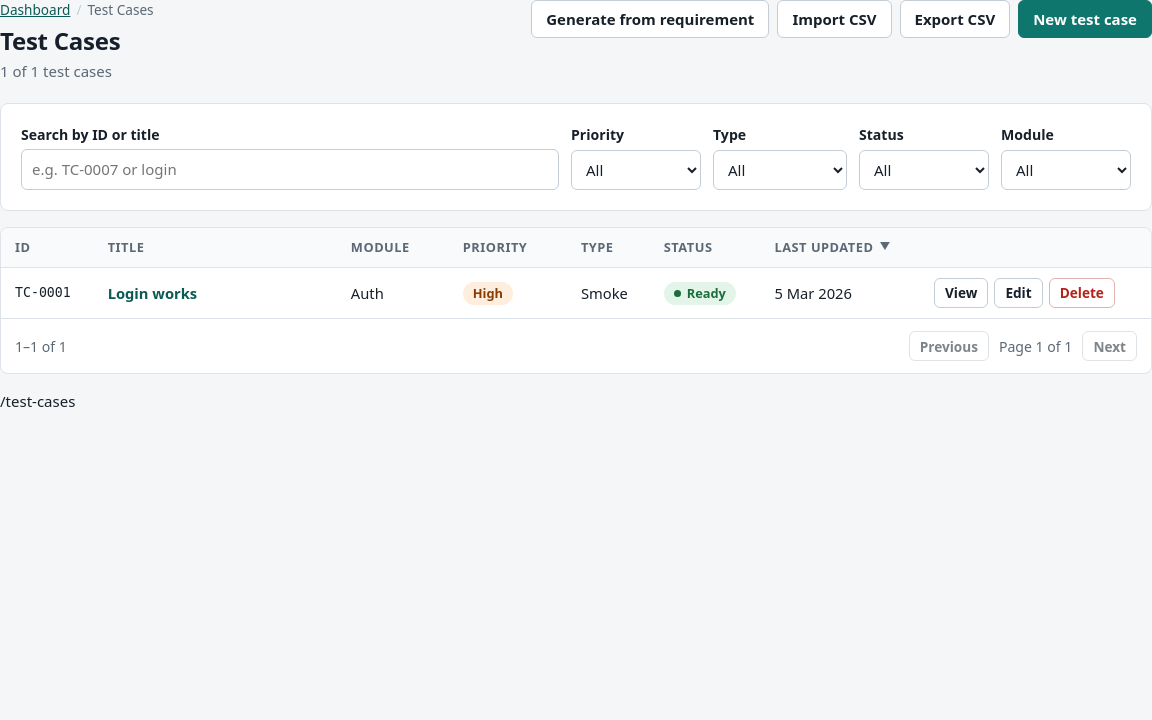
Scenario: TestCaseListPage › requires confirmation before deleting, and can be cancelled
The width and height of the screenshot is (1152, 720).
What coordinates should you click on to do the following:
click the button with aria-label "Delete TC-0001"
I would click on:
 (1082, 293)
Its box is [1049,278,1115,308].
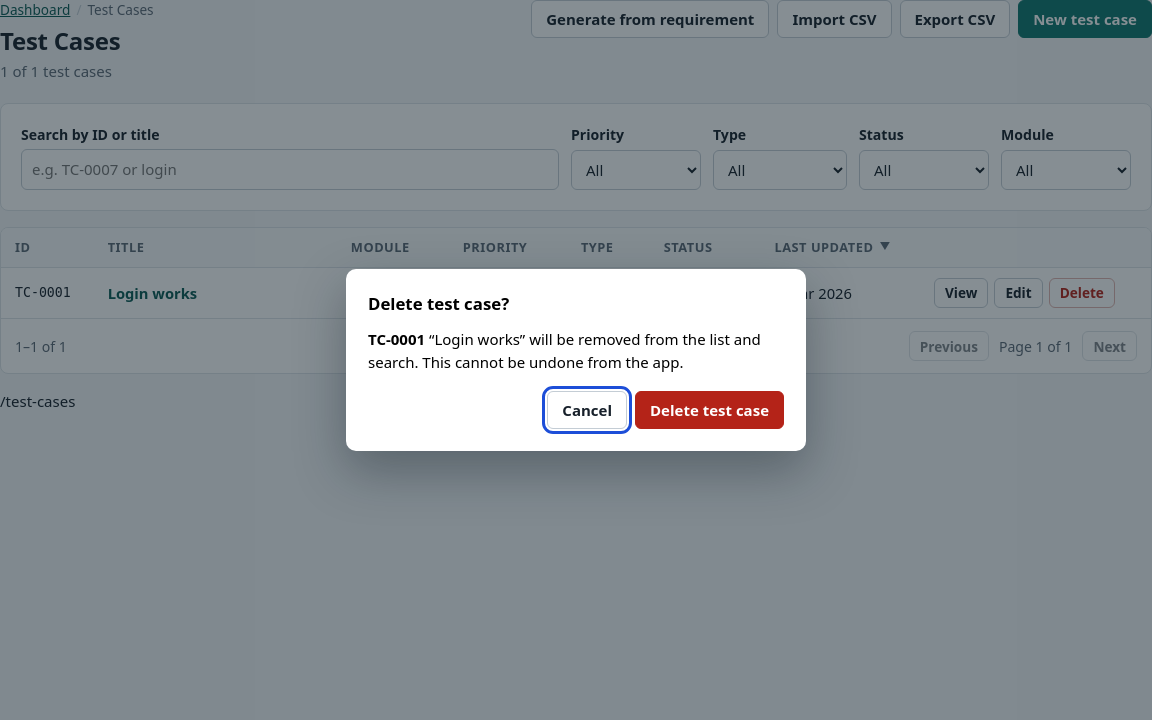
Result: the dialog shows "Login works" at [434,329,520,349]
What coordinates should you click on to do the following:
click the button "Cancel"
I would click on:
 (587, 410)
Its box is [547,391,627,429].
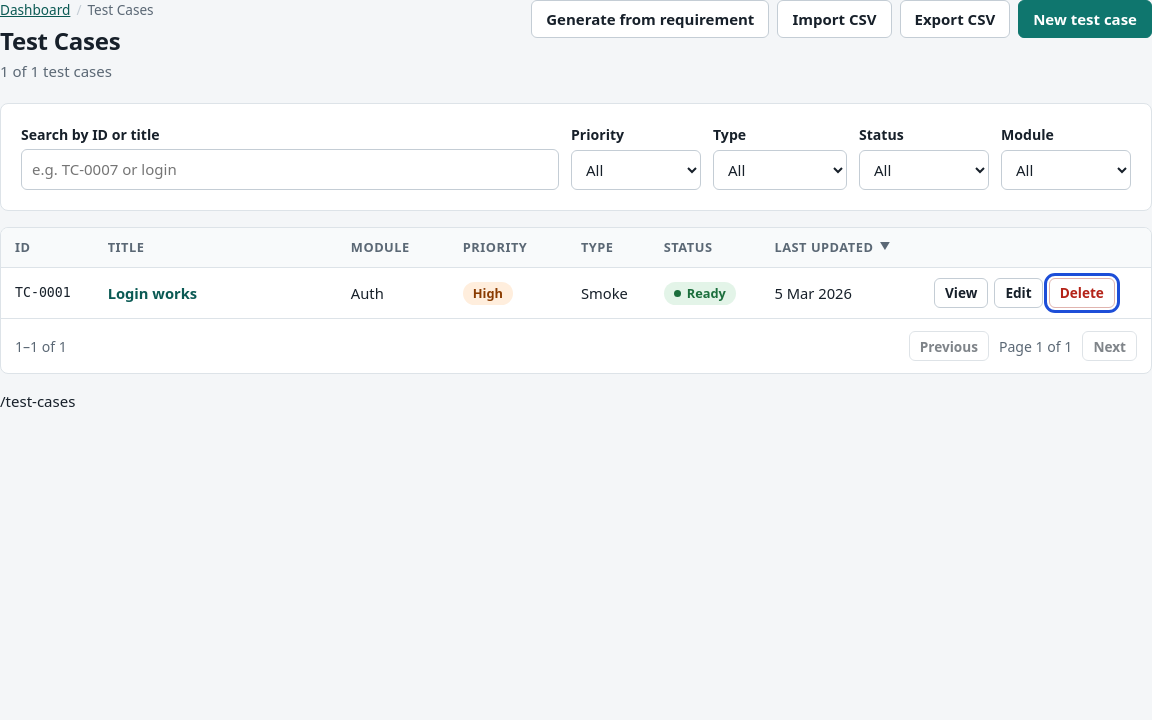
What coordinates should you click on to do the following:
click the button with aria-label "Delete TC-0001"
I would click on:
 (1082, 293)
Its box is [1049,278,1115,308].
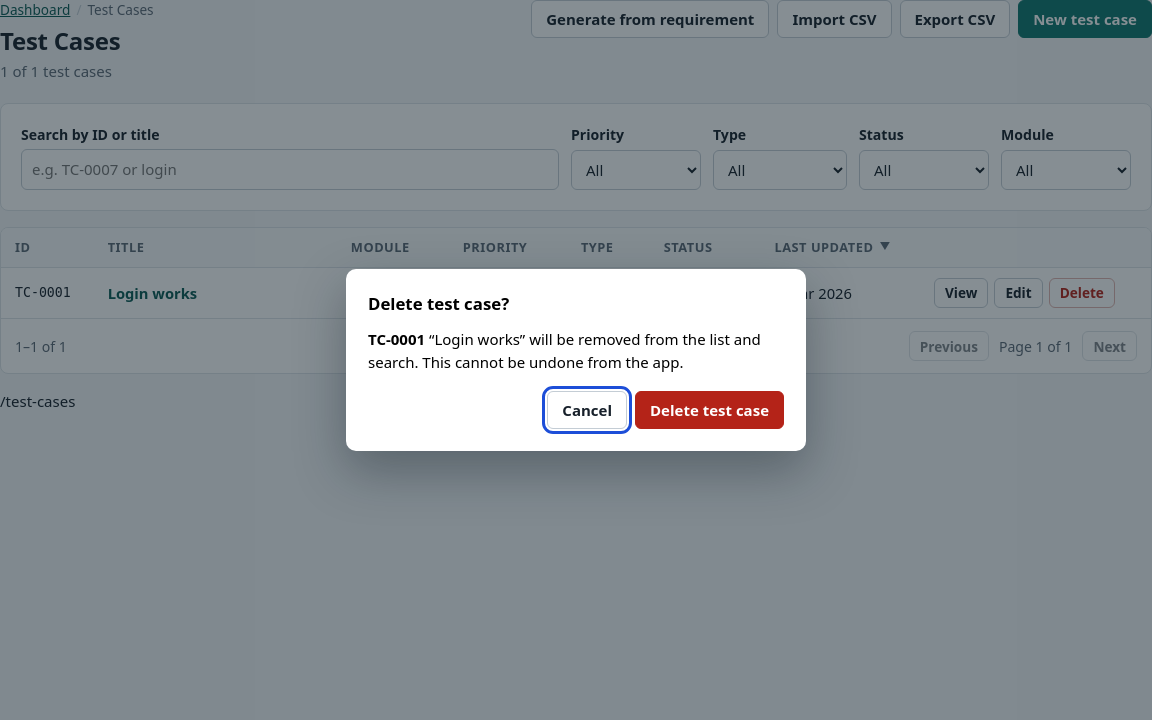
What coordinates should you click on to do the following:
click the button "Delete test case"
I would click on:
 (710, 410)
Its box is [635,391,784,429].
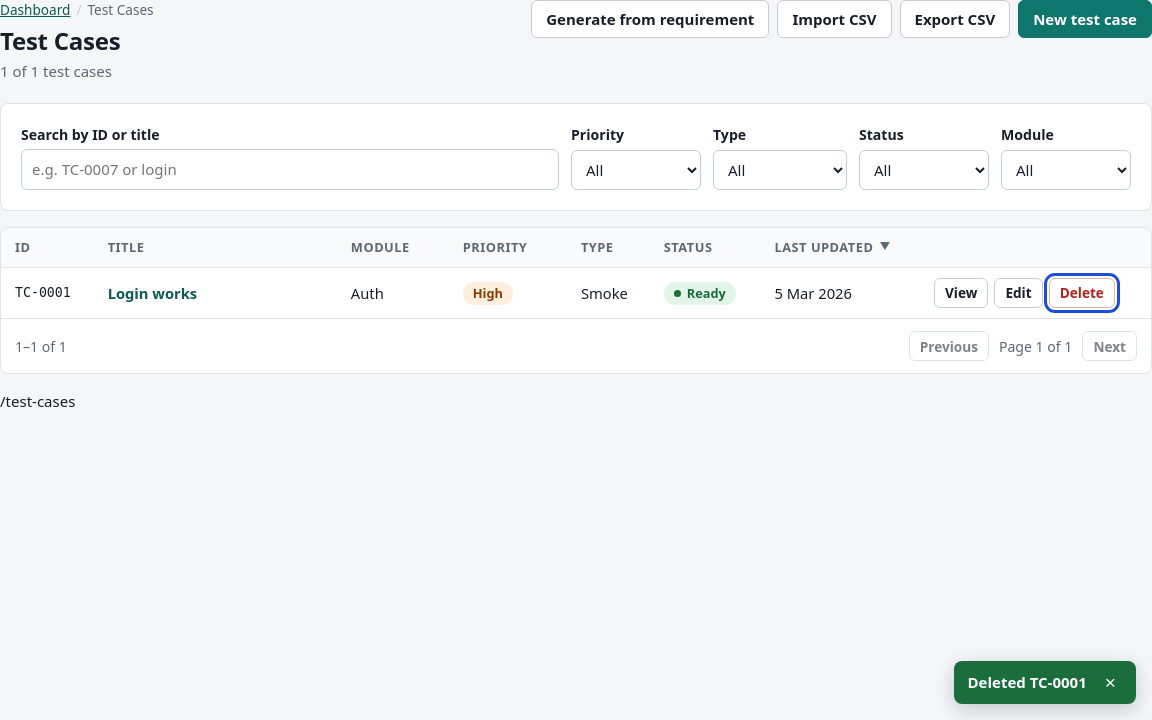
Result: the text "Deleted TC-0001" is shown at [968,671,1087,694]
